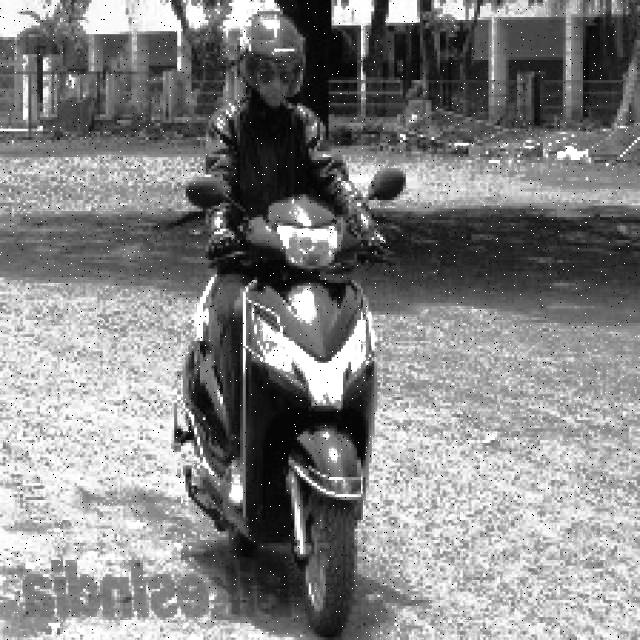Bike: (178, 185, 396, 633)
